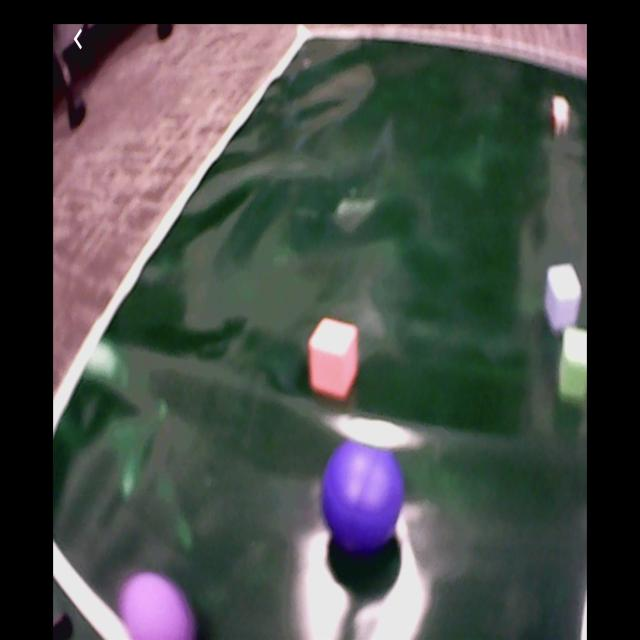ball: (323, 438, 402, 549), (119, 574, 195, 640)
